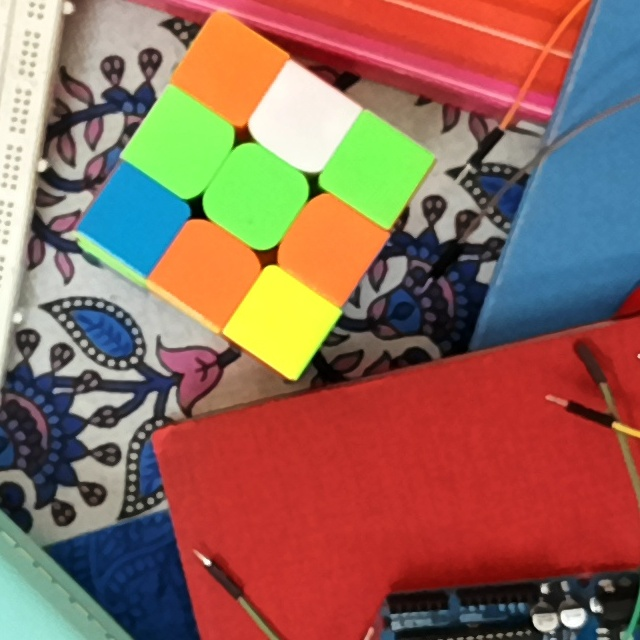tile: (152, 114, 213, 176), (223, 167, 287, 226), (299, 217, 361, 277), (345, 140, 408, 198), (197, 41, 259, 99), (272, 91, 331, 150), (105, 191, 164, 250), (253, 291, 313, 349), (179, 244, 241, 297)
